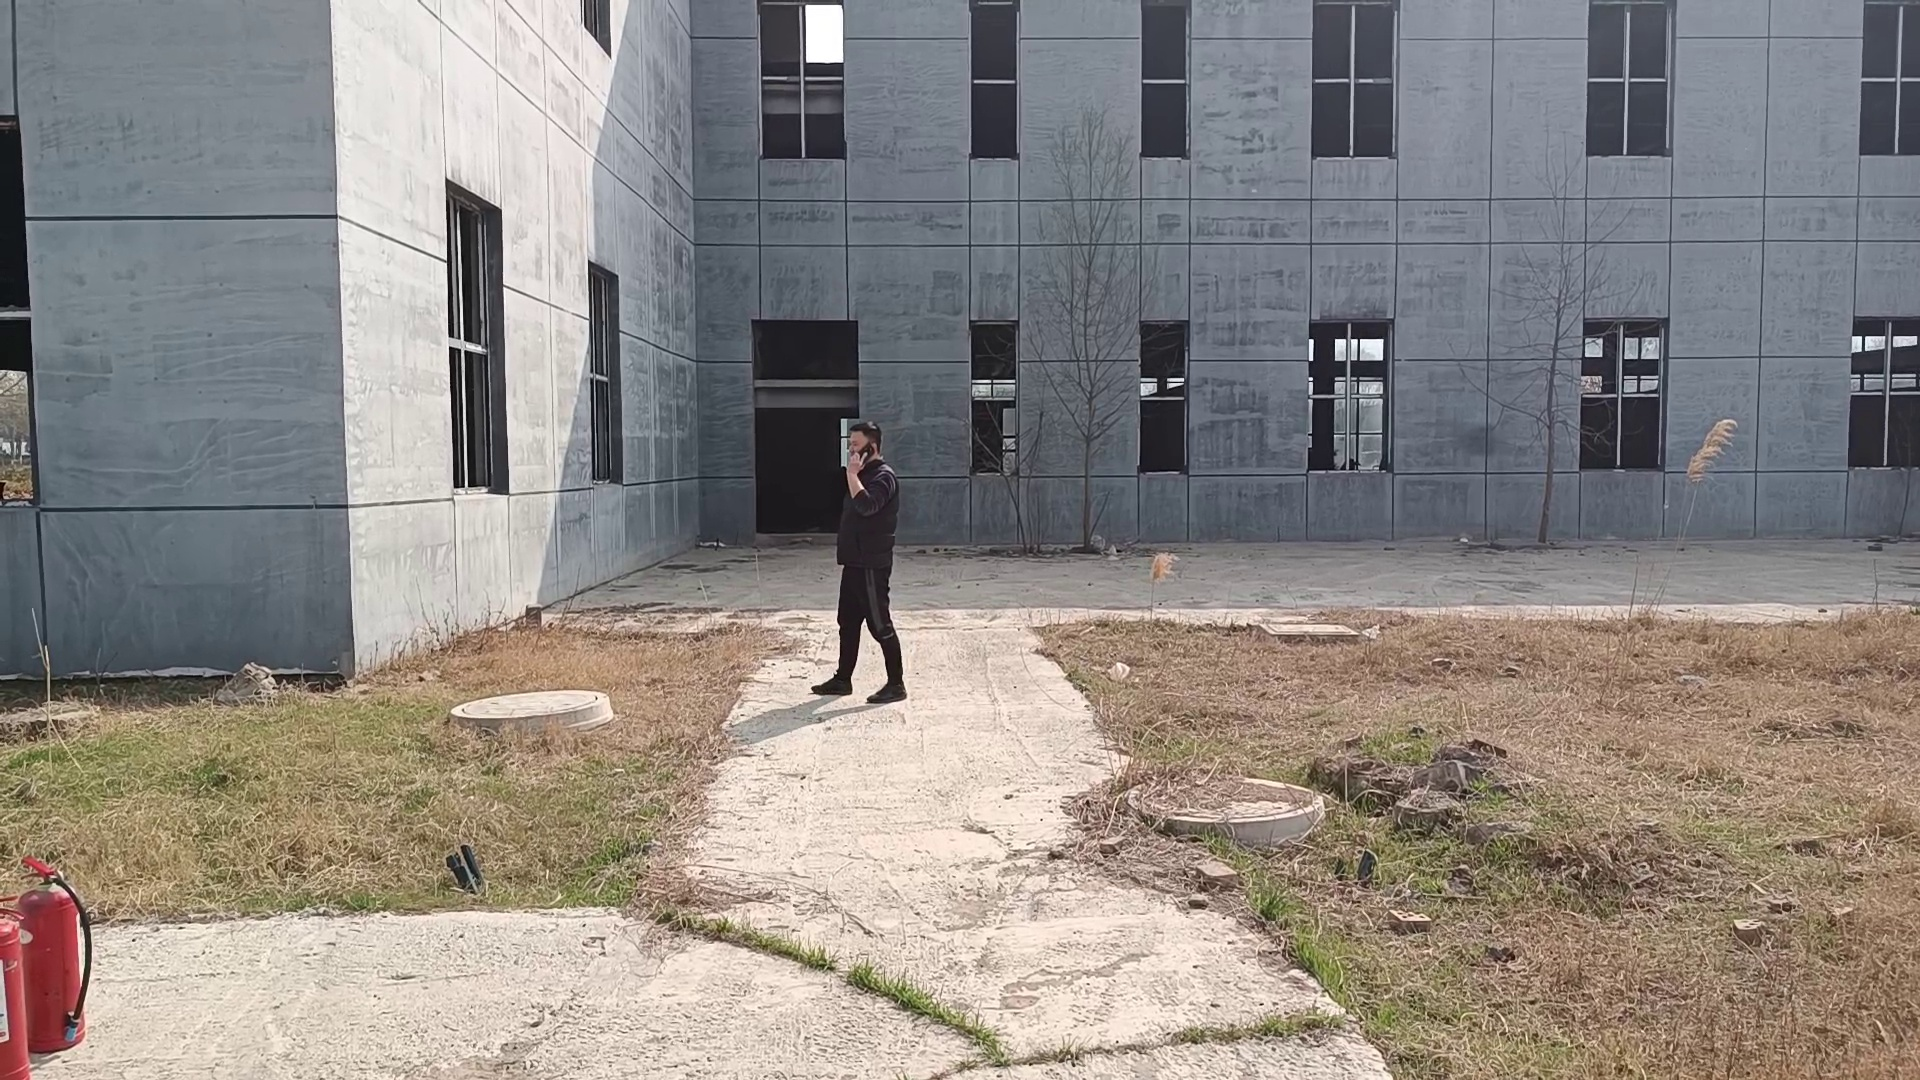phone: (839, 419, 880, 475)
